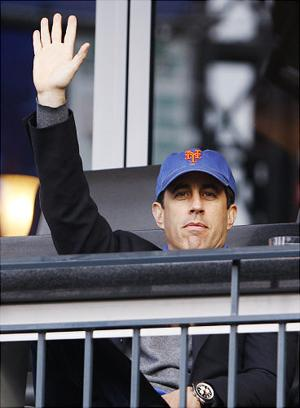person: (33, 13, 297, 408)
